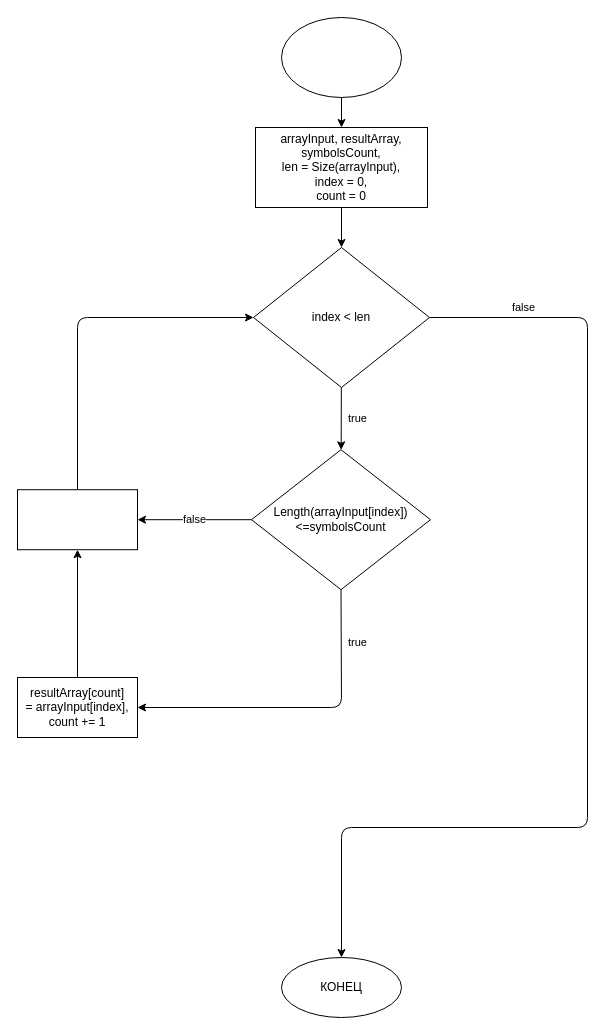
The diagram is 613 pixels wide and 1035 high, and some of its shapes have lost their labels. Each missing label, with the box of its shape:
index += 1: (16, 489, 138, 550)
НАЧАЛО: (280, 16, 402, 98)
